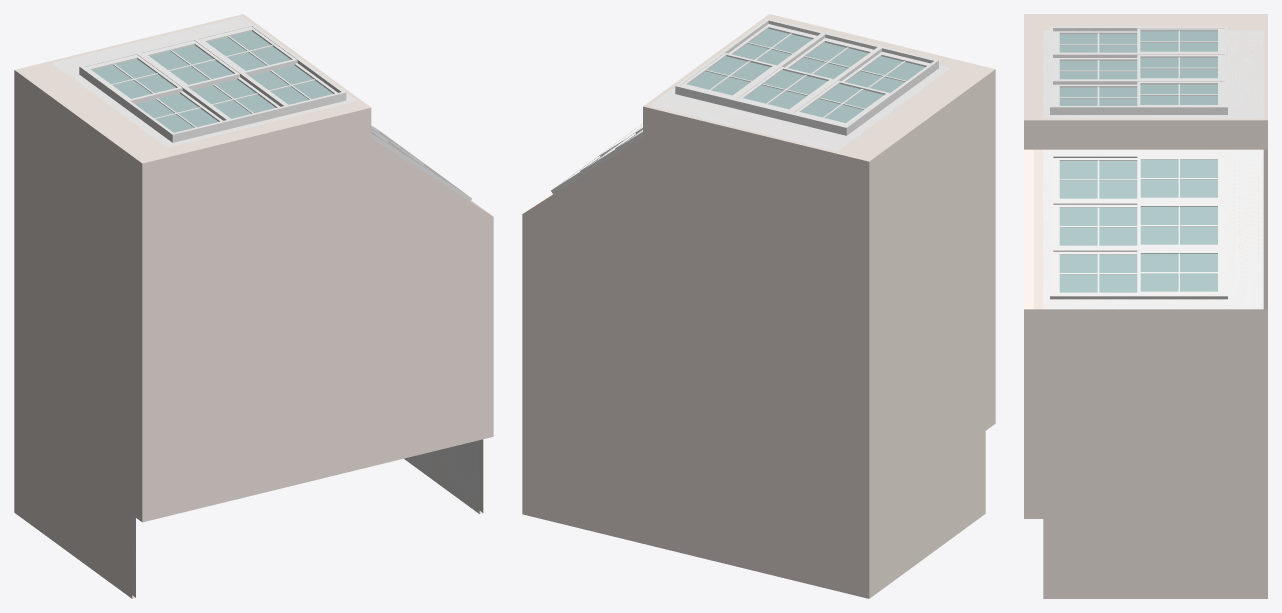
File: room16.obj
3 renders of one model, left to right at view 1: azimuth 30°, elevation 25°; view 2: azimuth 150°, elevation 25°; view 3: azimuth 270°, elevation 25°, orthographic. The views are drawn at different scales.
Visible parts, largest first — view 1: room16; view 2: room16; view 3: room16.
Part boxes in pixels (x1=…): room16: x1=14, y1=14, x2=493, y2=598; room16: x1=522, y1=14, x2=995, y2=598; room16: x1=1024, y1=14, x2=1267, y2=598.
Size of the model in its own units: 271 by 332 by 171.
